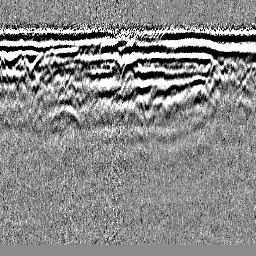cavity: (119, 58, 137, 80)
